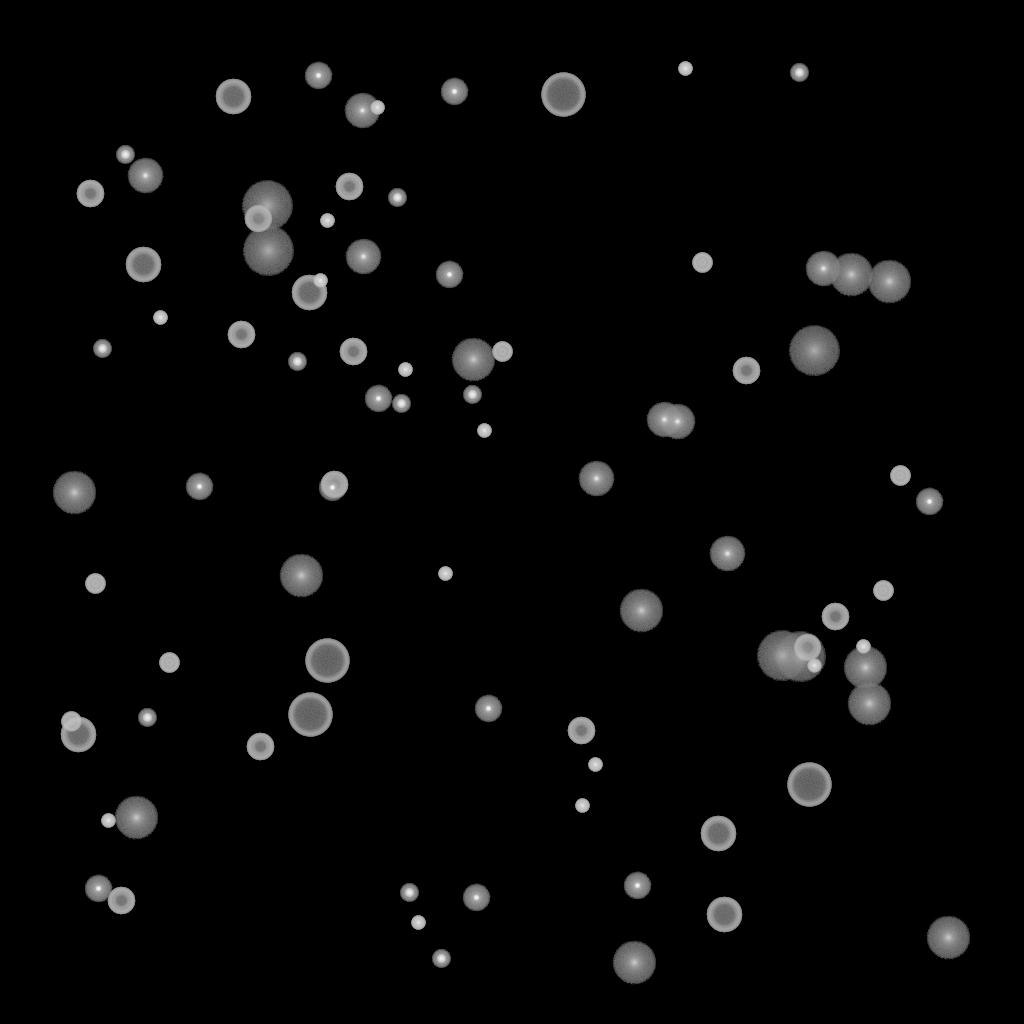depth:-10: (364, 385, 392, 413), (84, 875, 112, 903), (440, 78, 468, 106), (304, 62, 332, 90), (474, 695, 502, 723), (318, 474, 346, 502), (462, 884, 490, 912), (435, 261, 463, 289), (915, 488, 943, 516), (623, 872, 651, 900), (185, 473, 213, 501)
depth:-20: (432, 950, 450, 968), (790, 64, 808, 82), (388, 189, 406, 207), (463, 386, 481, 404), (138, 709, 156, 727), (116, 146, 134, 164), (93, 340, 111, 358), (288, 353, 306, 371), (400, 884, 418, 902), (392, 395, 410, 413)
depth:-30: (313, 274, 327, 288), (411, 916, 425, 930), (398, 363, 412, 377), (477, 424, 491, 438), (438, 567, 452, 581), (101, 814, 115, 828), (575, 799, 589, 813), (588, 758, 602, 772), (807, 659, 821, 673), (370, 101, 384, 115), (320, 214, 334, 228), (856, 640, 870, 654), (153, 311, 167, 325), (678, 62, 692, 76)
depth:-40: (85, 574, 105, 594), (692, 253, 712, 273), (159, 653, 179, 673), (492, 342, 512, 362), (873, 581, 893, 601), (890, 466, 910, 486), (61, 712, 81, 732)
depth:-50: (244, 205, 272, 233), (732, 357, 760, 385), (821, 603, 849, 631), (339, 338, 367, 366), (320, 471, 348, 499), (335, 173, 363, 201), (246, 733, 274, 761), (76, 180, 104, 208), (567, 717, 595, 745), (107, 887, 135, 915), (227, 321, 255, 349), (793, 634, 821, 662)
depth:-60: (706, 897, 742, 933), (700, 816, 736, 852), (60, 717, 96, 753), (125, 247, 161, 283), (215, 79, 251, 115), (291, 275, 327, 311)
depth:-70: (787, 763, 831, 807), (288, 693, 332, 737), (305, 639, 349, 683), (541, 73, 585, 117)
depth:0: (805, 251, 841, 287), (659, 404, 695, 440), (344, 93, 380, 129), (646, 402, 682, 438), (578, 461, 614, 497), (127, 158, 163, 194), (345, 239, 381, 275), (709, 536, 745, 572)
depth:10: (847, 682, 891, 726), (612, 941, 656, 985), (451, 338, 495, 382), (829, 253, 873, 297), (926, 916, 970, 960), (867, 260, 911, 304), (279, 554, 323, 598), (52, 471, 96, 515), (843, 646, 887, 690), (619, 589, 663, 633), (114, 796, 158, 840)
depth:20: (774, 632, 826, 682), (242, 226, 294, 276), (788, 326, 840, 376), (756, 631, 808, 681), (241, 181, 293, 231)
